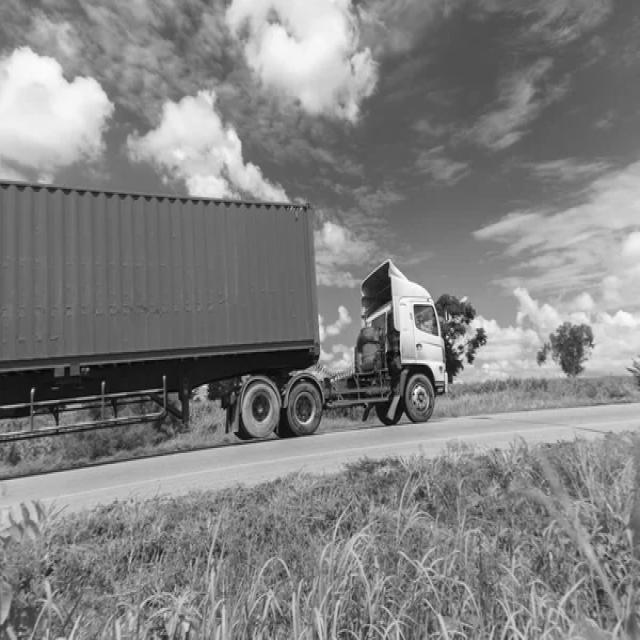Tree: (437, 294, 488, 384), (538, 324, 596, 378)
Truck: (0, 181, 448, 441)
